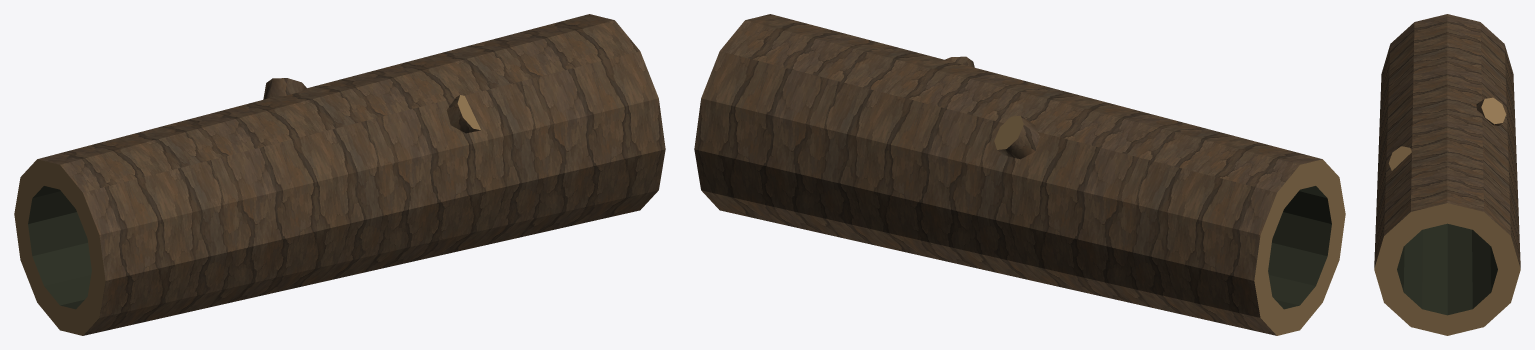
Rendered from source_4.glb.
3 views of the same model, side by side, from view 1: azimuth 30°, elevation 25°; view 2: azimuth 150°, elevation 25°; view 3: azimuth 270°, elevation 25° (orthographic). The views are drawn at different scales.
Parts seen in each view (by area): view 1: Open hollow log; view 2: Open hollow log; view 3: Open hollow log.
Part boxes in pixels (x1=…): Open hollow log: x1=14, y1=14, x2=665, y2=335; Open hollow log: x1=694, y1=14, x2=1345, y2=335; Open hollow log: x1=1374, y1=14, x2=1520, y2=335.
Bounding box in the file's own units: 6 × 1.9 × 1.9.
3 materials, 1 textured.
